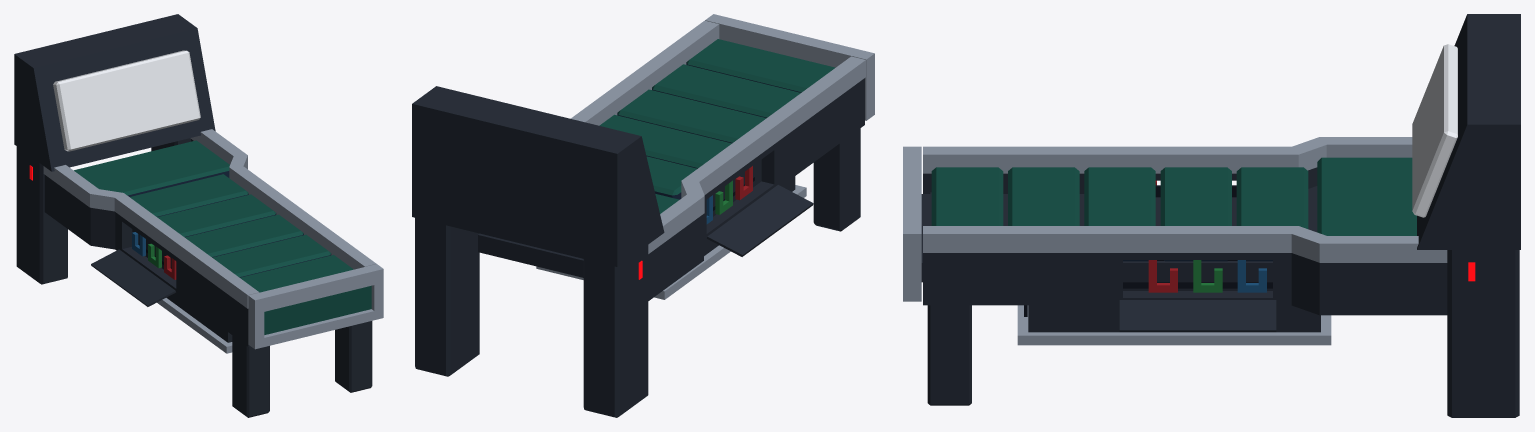
The model's file is stasis_v3_maintenance.glb.
3 renders of one model, left to right at view 1: azimuth 30°, elevation 25°; view 2: azimuth 150°, elevation 25°; view 3: azimuth 270°, elevation 25°, orthographic. The views are drawn at different scales.
Parts seen in each view (by area): view 1: Stasis_Head_Backplate, Stasis_Head_White_Plate, Stasis_Continuous_Fascia_-1, Stasis_Foot_Frame, Stasis_Level_Rail_-1, Stasis_Mattress_Head, Stasis_Leg.001, Stasis_Level_Rail_1, Stasis_Leg, Stasis_Mattress_Pad_01, Stasis_Mattress_Pad_03, Stasis_Mattress_Pad_02 (+7 smaller); view 2: Stasis_Head_Backplate, Stasis_Leg.001, Stasis_Leg.003, Stasis_Continuous_Fascia_-1, Stasis_Level_Rail_-1, Stasis_Mattress_Pad_02, Stasis_Mattress_Pad_01, Stasis_Mattress_Pad_00, Stasis_Foot_Frame, Stasis_Leg, Stasis_Level_Rail_1, Stasis_Service_Panel_-1 (+4 smaller); view 3: Stasis_Continuous_Fascia_1, Stasis_Head_Backplate, Stasis_Level_Rail_1, Stasis_Leg.003, Stasis_Level_Rail_-1, Stasis_Mattress_Head, Stasis_Head_White_Plate, Stasis_Service_Panel_1, Stasis_Underbody_Tray, Stasis_Leg.002, Stasis_Mattress_Pad_04, Stasis_Mattress_Pad_03 (+10 smaller).
Boxes of the visible parts, left/top/right/bottom form: Stasis_Head_Backplate: left=14, top=14, right=215, bottom=171; Stasis_Head_White_Plate: left=53, top=50, right=200, bottom=151; Stasis_Continuous_Fascia_-1: left=44, top=175, right=250, bottom=346; Stasis_Foot_Frame: left=248, top=264, right=383, bottom=349; Stasis_Level_Rail_-1: left=43, top=165, right=259, bottom=308; Stasis_Mattress_Head: left=74, top=140, right=229, bottom=196; Stasis_Leg.001: left=16, top=146, right=67, bottom=284; Stasis_Level_Rail_1: left=190, top=129, right=376, bottom=269; Stasis_Leg: left=232, top=335, right=269, bottom=417; Stasis_Mattress_Pad_01: left=212, top=234, right=331, bottom=277; Stasis_Mattress_Pad_03: left=157, top=194, right=276, bottom=237; Stasis_Mattress_Pad_02: left=185, top=214, right=303, bottom=257; Stasis_Head_Backplate: left=412, top=86, right=664, bottom=266; Stasis_Leg.001: left=583, top=245, right=648, bottom=417; Stasis_Leg.003: left=415, top=218, right=479, bottom=376; Stasis_Continuous_Fascia_-1: left=648, top=78, right=864, bottom=300; Stasis_Level_Rail_-1: left=648, top=56, right=865, bottom=253; Stasis_Mattress_Pad_02: left=617, top=89, right=766, bottom=143; Stasis_Mattress_Pad_01: left=652, top=64, right=800, bottom=117; Stasis_Mattress_Pad_00: left=686, top=39, right=835, bottom=92; Stasis_Foot_Frame: left=705, top=14, right=874, bottom=120; Stasis_Leg: left=813, top=128, right=860, bottom=231; Stasis_Level_Rail_1: left=570, top=20, right=719, bottom=125; Stasis_Service_Panel_-1: left=707, top=185, right=813, bottom=256; Stasis_Continuous_Fascia_1: left=923, top=253, right=1447, bottom=315; Stasis_Head_Backplate: left=1417, top=14, right=1520, bottom=249; Stasis_Level_Rail_1: left=923, top=226, right=1447, bottom=262; Stasis_Leg.003: left=1447, top=250, right=1519, bottom=417; Stasis_Level_Rail_-1: left=923, top=137, right=1412, bottom=173; Stasis_Mattress_Head: left=1317, top=157, right=1416, bottom=235; Stasis_Head_White_Plate: left=1412, top=44, right=1457, bottom=217; Stasis_Service_Panel_1: left=1119, top=300, right=1276, bottom=332; Stasis_Underbody_Tray: left=1017, top=305, right=1331, bottom=345; Stasis_Leg.002: left=927, top=305, right=971, bottom=405; Stasis_Mattress_Pad_04: left=1236, top=167, right=1308, bottom=261; Stasis_Mattress_Pad_03: left=1160, top=167, right=1231, bottom=261.
Size of the model in its own units: 1.28 by 1.39 by 2.64.
